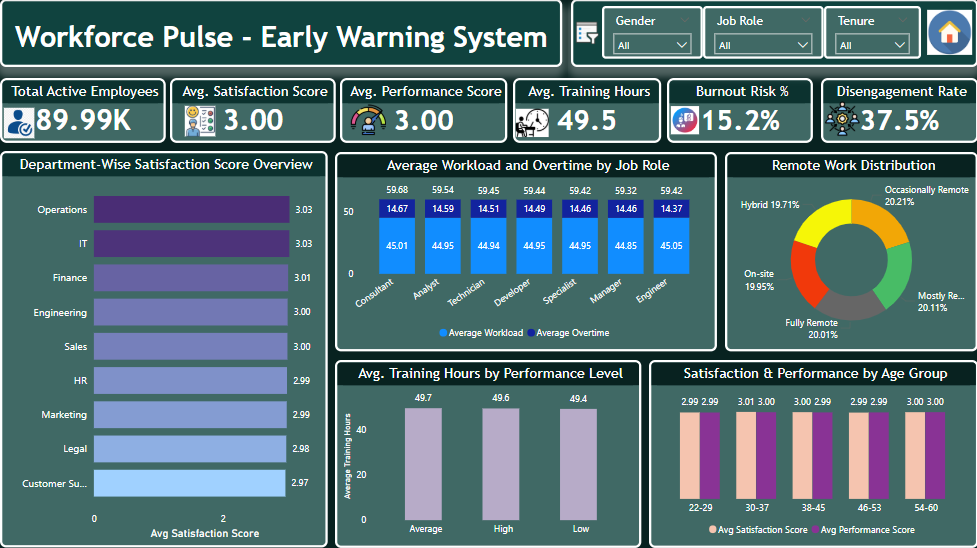

The dashboard page shown, as its layout file describes it:
{"tool":"powerbi","page":{"name":"Early Warning","canvas":[1280,720],"ordinal":1},"visuals":[{"type":"textbox","box":[0,0,736.1,88.9],"z":0},{"type":"card","title":"Total Active Employees","fields":{"Values":["Employee.Total Active Employees"]},"box":[0,102.8,216.7,84.7],"z":1000},{"type":"image","box":[0,125,50,75],"z":2000},{"type":"card","title":"Avg. Satisfaction Score","fields":{"Values":["Employee.Avg Satisfaction Score"]},"box":[222.2,102.8,216.7,84.7],"z":3000},{"type":"image","box":[202.8,134.7,118.1,50],"z":4000},{"type":"card","title":"Avg. Performance Score","fields":{"Values":["Employee.Avg Performance Score"]},"box":[444.4,102.8,219.4,84.7],"z":5000},{"type":"image","box":[454.2,98.6,55.6,119.4],"z":6000},{"type":"card","title":"Avg. Training Hours","fields":{"Values":["Employee.Average Training Hours"]},"box":[671.6,103.4,193.7,85.1],"z":7000},{"type":"image","box":[670.8,87.5,52.8,148.6],"z":8000},{"type":"card","title":"Burnout Risk %","fields":{"Values":["Employee.Burnout Risk %"]},"box":[873.2,103.4,191.1,85.1],"z":9000},{"type":"image","box":[873.6,80.6,47.2,155.6],"z":10000},{"type":"card","title":" Disengagement Rate","fields":{"Values":["Employee.Low Satisgaction %"]},"box":[1074.8,103.4,205.5,85.1],"z":11000},{"type":"image","box":[1075,112.5,55.6,87.5],"z":12000},{"type":"barChart","title":"Department-Wise Satisfaction Score Overview","fields":{"Category":["Employee.Department"],"Y":["Employee.Avg Satisfaction Score"]},"box":[0,198.6,429.2,519.4],"z":13000},{"type":"columnChart","title":"Average Workload and Overtime by Job Role","fields":{"Y":["Employee.Average Workload","Employee.Average Overtime"],"Category":["Employee.Job_Title Hierarchy.Job_Title","Employee.Job_Title Hierarchy.Team Category"]},"box":[438.5,200.3,500.1,260.5],"z":14000},{"type":"donutChart","title":"Remote Work Distribution","fields":{"Y":["Employee.Total Active Employees"],"Category":["Employee.Remote Work Type"]},"box":[949.3,200,331,260.6],"z":15000},{"type":"clusteredColumnChart","title":"Avg. Training Hours by Performance Level","fields":{"Y":["Employee.Average Training Hours"],"Category":["Employee.performance_level"]},"box":[438.9,472.2,401.4,245.8],"z":16000},{"type":"clusteredColumnChart","title":"Satisfaction & Performance by Age Group","fields":{"Category":["Employee.Age Group"],"Y":["Employee.Avg Satisfaction Score","Employee.Avg Performance Score"]},"box":[850,472.2,430.6,245.8],"z":17000},{"type":"textbox","title":"Slicer Pannel","box":[747.5,0,532.8,89],"z":18000},{"type":"slicer","fields":{"Values":["Employee.Gender"]},"box":[788.1,9.2,132.2,69.4],"z":19000},{"type":"image","box":[747.5,0,40.6,87.7],"z":20000},{"type":"slicer","fields":{"Values":["Employee.Job_Title"]},"box":[920.3,9.2,158.4,69.4],"z":21000},{"type":"slicer","fields":{"Values":["Employee.Years_At_Company"]},"box":[1078.7,9.2,127,69.4],"z":22000},{"type":"image","box":[1205.7,9.2,74.6,69.4],"z":23000}]}

Visuals, with their boxes in screenshot pixels (x1, y1, x2, y2), scaled from the page's 1280x720 canvas onto the 977x548 screenshot:
textbox: <bbox>0, 0, 562, 68</bbox>
"Total Active Employees" card: <bbox>0, 78, 165, 143</bbox>
image: <bbox>0, 95, 38, 152</bbox>
"Avg. Satisfaction Score" card: <bbox>170, 78, 335, 143</bbox>
image: <bbox>155, 103, 245, 141</bbox>
"Avg. Performance Score" card: <bbox>339, 78, 507, 143</bbox>
image: <bbox>347, 75, 389, 166</bbox>
"Avg. Training Hours" card: <bbox>513, 79, 660, 143</bbox>
image: <bbox>512, 67, 552, 180</bbox>
"Burnout Risk %" card: <bbox>666, 79, 812, 143</bbox>
image: <bbox>667, 61, 703, 180</bbox>
" Disengagement Rate" card: <bbox>820, 79, 976, 143</bbox>
image: <bbox>821, 86, 863, 152</bbox>
"Department-Wise Satisfaction Score Overview" barChart: <bbox>0, 151, 328, 546</bbox>
"Average Workload and Overtime by Job Role" columnChart: <bbox>335, 152, 716, 351</bbox>
"Remote Work Distribution" donutChart: <bbox>725, 152, 976, 351</bbox>
"Avg. Training Hours by Performance Level" clusteredColumnChart: <bbox>335, 359, 641, 546</bbox>
"Satisfaction & Performance by Age Group" clusteredColumnChart: <bbox>649, 359, 976, 546</bbox>
"Slicer Pannel" textbox: <bbox>571, 0, 976, 68</bbox>
slicer - Employee.Gender: <bbox>602, 7, 702, 60</bbox>
image: <bbox>571, 0, 602, 67</bbox>
slicer - Employee.Job_Title: <bbox>702, 7, 823, 60</bbox>
slicer - Employee.Years_At_Company: <bbox>823, 7, 920, 60</bbox>
image: <bbox>920, 7, 976, 60</bbox>
